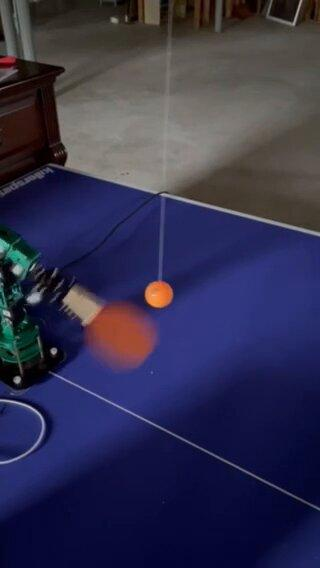oball: (144, 282, 171, 307)
